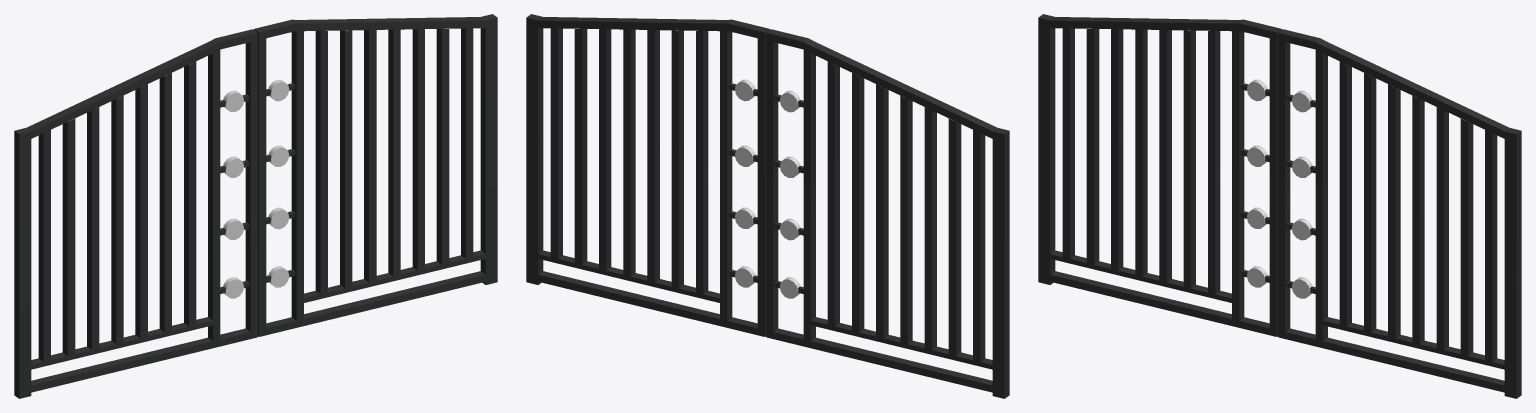
3 views of the same model, side by side, from view 1: azimuth 30°, elevation 25°; view 2: azimuth 150°, elevation 25°; view 3: azimuth 330°, elevation 25° (orthographic).
Parts seen in each view (by area): view 1: Lo-铁艺大门_01; view 2: Lo-铁艺大门_01; view 3: Lo-铁艺大门_01.
Boxes of the visible parts, x1,y1,x2,y2 form: Lo-铁艺大门_01: (14,14,497,398); Lo-铁艺大门_01: (526,14,1009,398); Lo-铁艺大门_01: (1038,14,1521,398).
Size of the model in its own units: 3.69 by 2.27 by 0.0666.
1 material, 1 textured.
